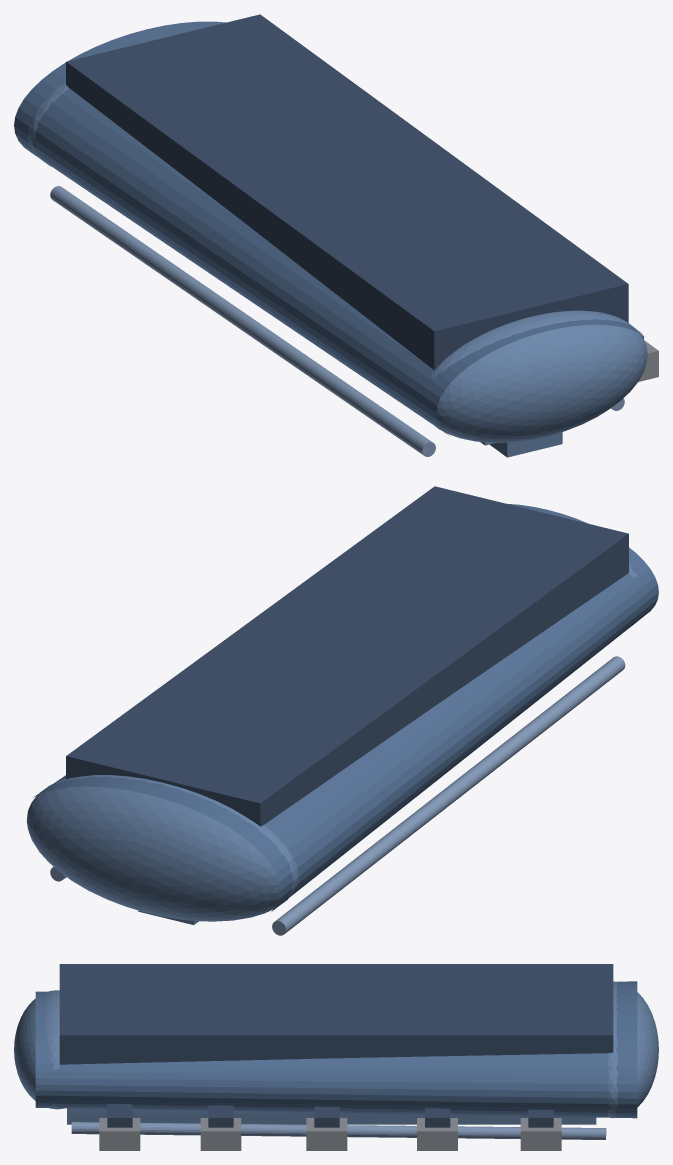
The model's file is rodilla.glb.
3 renders of one model, top to bottom at view 1: azimuth 30°, elevation 25°; view 2: azimuth 150°, elevation 25°; view 3: azimuth 270°, elevation 25°, orthographic. The views are drawn at different scales.
Parts seen in each view (by area): view 1: placa_trasera, cuerpo_acolchado_azul, extremo_superior_redondeado, ribete_lateral_izquierdo, correa_vertical_ancha, extremo_inferior_redondeado; view 2: placa_trasera, cuerpo_acolchado_azul, extremo_inferior_redondeado, ribete_lateral_izquierdo; view 3: placa_trasera, cuerpo_acolchado_azul, ribete_lateral_derecho, correa_vertical_ancha, extremo_inferior_redondeado, extremo_superior_redondeado, hebilla_1, hebilla_2, hebilla_3, hebilla_5, hebilla_4, panel_frontal_reforzado (+5 smaller).
Boxes of the visible parts, bbox=[...] form: placa_trasera: bbox=[66, 14, 628, 370]; cuerpo_acolchado_azul: bbox=[14, 21, 645, 435]; extremo_superior_redondeado: bbox=[431, 310, 647, 442]; ribete_lateral_izquierdo: bbox=[50, 186, 435, 456]; correa_vertical_ancha: bbox=[489, 432, 562, 457]; extremo_inferior_redondeado: bbox=[28, 82, 68, 166]; placa_trasera: bbox=[66, 486, 628, 826]; cuerpo_acolchado_azul: bbox=[33, 504, 658, 911]; extremo_inferior_redondeado: bbox=[26, 775, 298, 921]; ribete_lateral_izquierdo: bbox=[272, 656, 625, 935]; placa_trasera: bbox=[59, 964, 613, 1064]; cuerpo_acolchado_azul: bbox=[35, 981, 637, 1118]; ribete_lateral_derecho: bbox=[71, 1122, 606, 1139]; correa_vertical_ancha: bbox=[67, 1113, 596, 1124]; extremo_inferior_redondeado: bbox=[607, 981, 658, 1118]; extremo_superior_redondeado: bbox=[14, 990, 64, 1109]; hebilla_1: bbox=[99, 1118, 140, 1150]; hebilla_2: bbox=[200, 1118, 241, 1150]; hebilla_3: bbox=[306, 1118, 347, 1150]; hebilla_5: bbox=[520, 1118, 561, 1150]; hebilla_4: bbox=[417, 1118, 457, 1150]; panel_frontal_reforzado: bbox=[67, 1108, 361, 1113].
Size of the model in its own units: 1.03 by 0.52 by 2.68.
